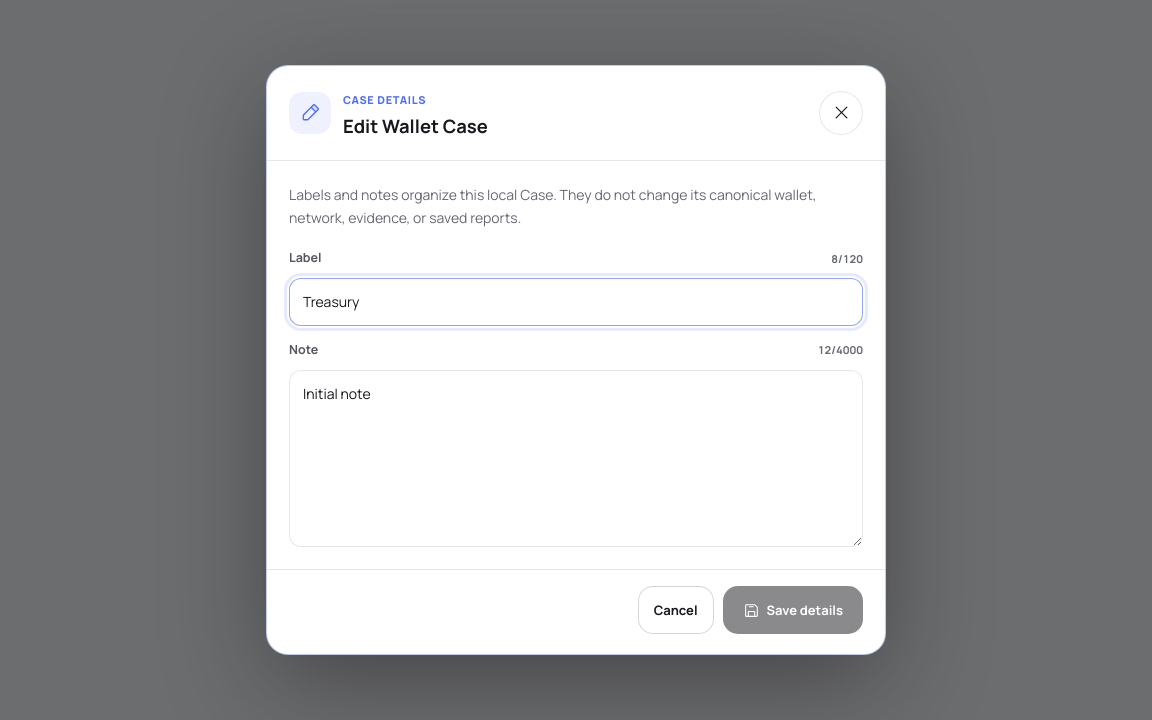
Test: CaseMetadataDialog › preserves the draft and explains a stale editor conflict
This screenshot has width=1152, height=720.
Replace the text in the field labelled "Label" with "Local draft" at (576, 302), box [289, 278, 863, 326]
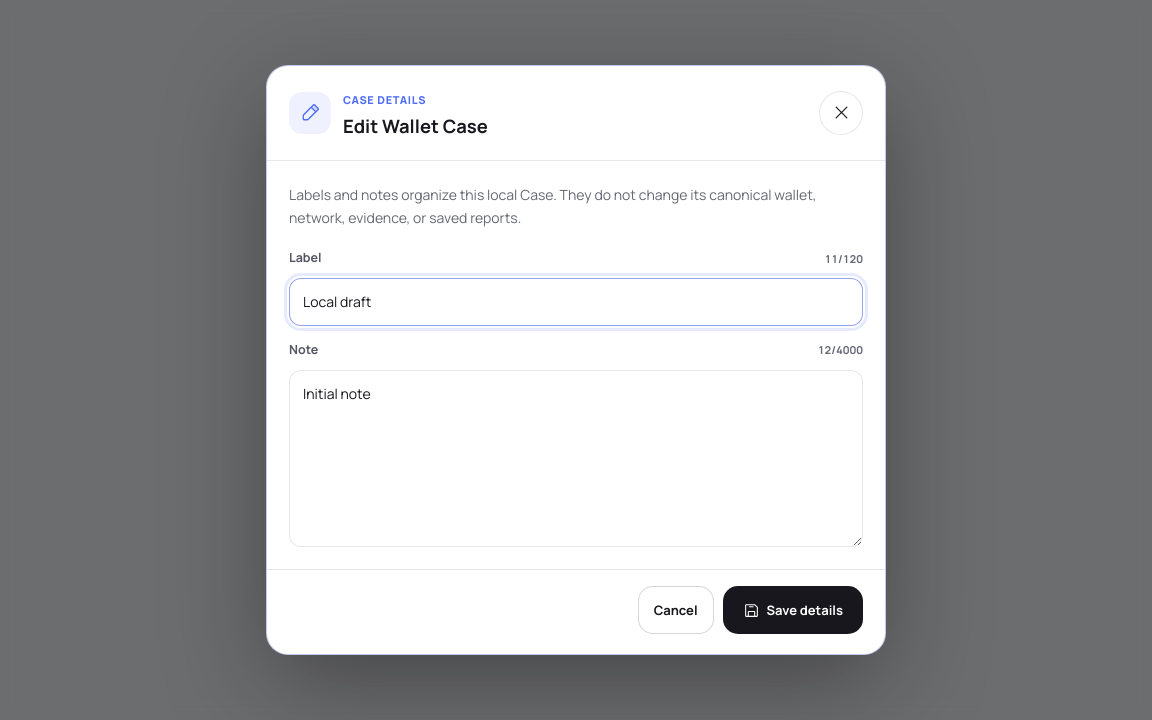
Click the button "Save details".
click(793, 610)  # box [723, 586, 863, 634]
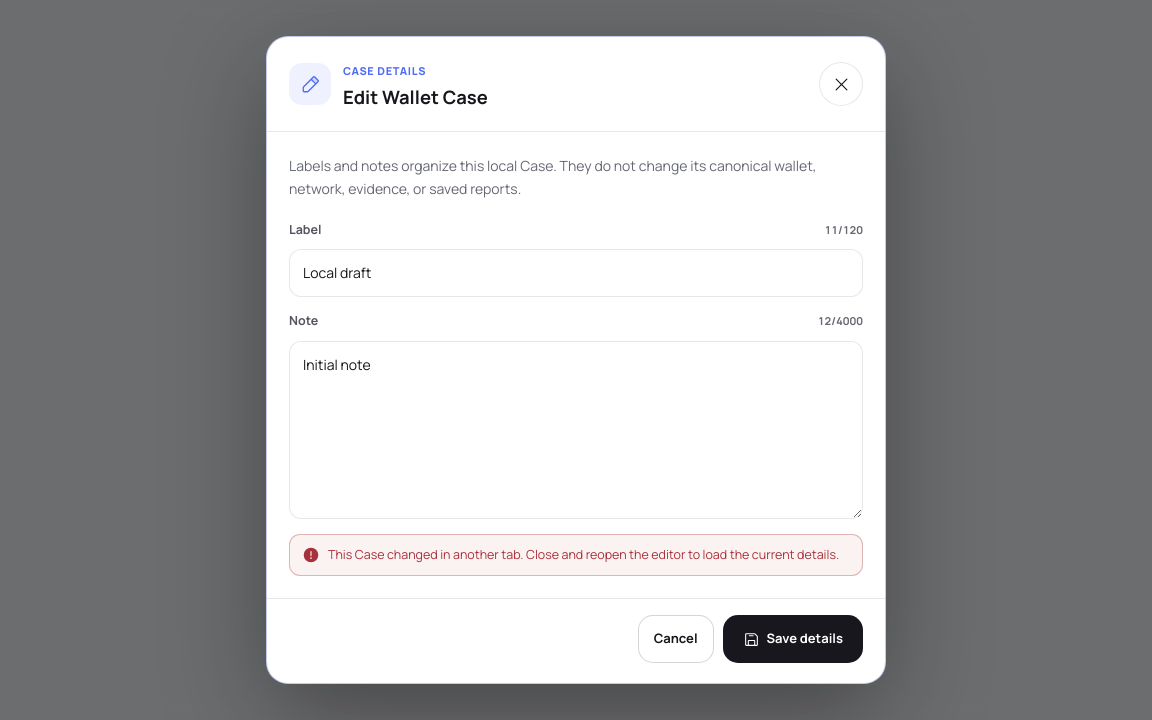
Result: the button "Save details" is enabled at [723, 615, 863, 663]
Result: the message shows "changed in another tab" at [328, 546, 839, 562]
